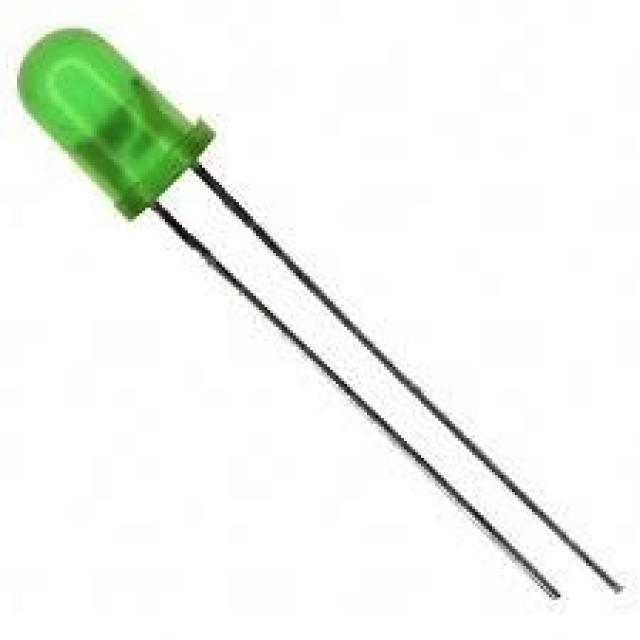Led: (19, 30, 589, 572)
